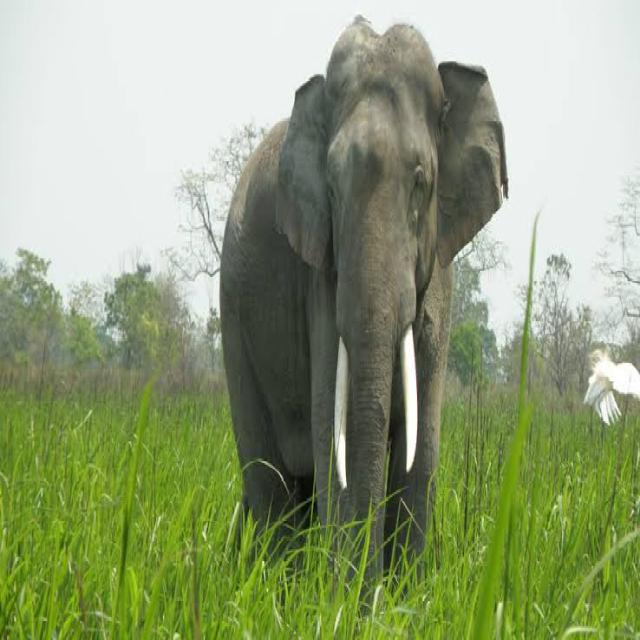Elephant: (218, 12, 508, 614)
